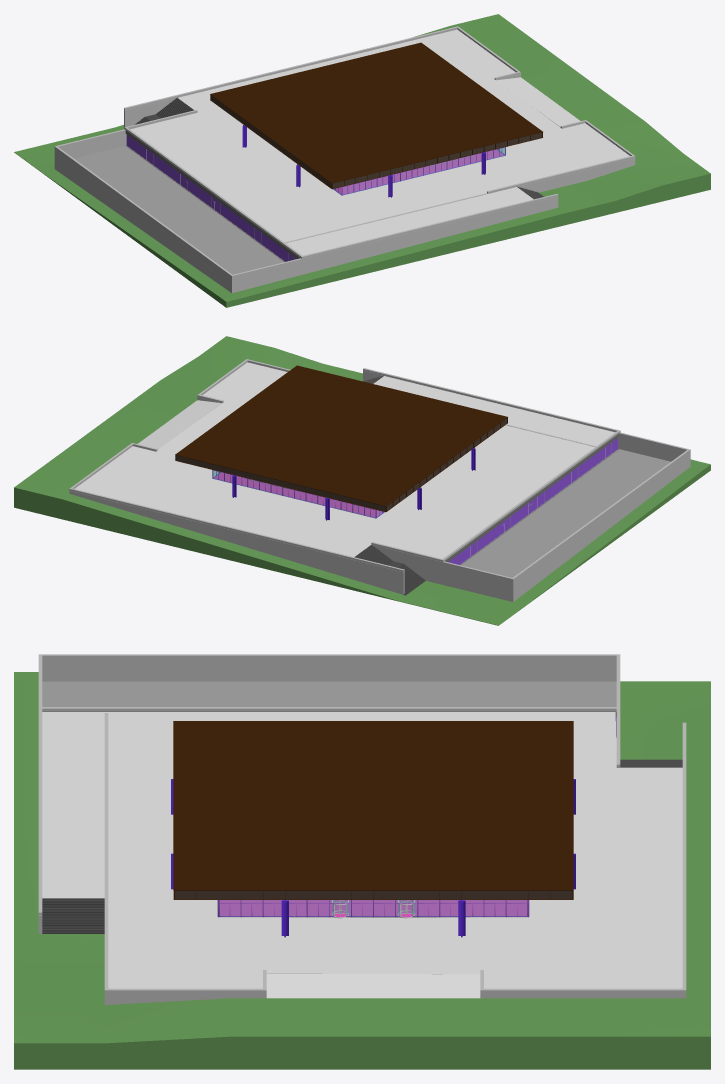
Rendered from 3D BERLIN PAVILLION MAX.fbx.
The picture shows the model from 3 angles, top to bottom: view 1: azimuth 30°, elevation 25°; view 2: azimuth 150°, elevation 25°; view 3: azimuth 270°, elevation 25°; orthographic projection. The views are drawn at different scales.
Parts seen in each view (by area): view 1: FloorOutside, Roof, GroundOutside, WallsOuter, GroundOutsideDown, WindowBackWall, RoofOutsidePanel, StairsOutside, FloorInside, Windows, UndergroundPiller, StairsOutdoor; view 2: FloorOutside, Roof, GroundOutside, WallsOuter, GroundOutsideDown, WindowBackWall, RoofOutsidePanel, StairsOutside, FloorInside, Windows, UndergroundPiller, StairsOutdoor; view 3: FloorOutside, GroundOutside, Roof, WallsOuter, GroundOutsideDown, StairsOutside, FloorInside, RoofOutsidePanel, Windows, StairsOutdoor, Piller, WindowFrame.
Part boxes in pixels (x1,y1,x2,y2): FloorOutside: [130, 29, 629, 255]; Roof: [210, 42, 542, 189]; GroundOutside: [14, 14, 710, 307]; WallsOuter: [54, 26, 635, 292]; GroundOutsideDown: [74, 146, 283, 274]; WindowBackWall: [126, 134, 296, 261]; RoofOutsidePanel: [211, 95, 541, 188]; StairsOutside: [497, 77, 580, 127]; FloorInside: [336, 149, 503, 194]; Windows: [335, 147, 504, 194]; UndergroundPiller: [125, 130, 300, 261]; StairsOutdoor: [134, 97, 543, 199]; FloorOutside: [75, 362, 614, 558]; Roof: [175, 365, 507, 511]; GroundOutside: [14, 336, 710, 625]; WallsOuter: [69, 359, 690, 601]; GroundOutsideDown: [461, 449, 670, 577]; WindowBackWall: [448, 438, 618, 564]; RoofOutsidePanel: [176, 418, 506, 511]; StairsOutside: [138, 400, 221, 449]; FloorInside: [214, 472, 383, 517]; Windows: [213, 471, 382, 517]; UndergroundPiller: [445, 433, 619, 565]; StairsOutdoor: [354, 375, 425, 595]; FloorOutside: [42, 712, 682, 988]; GroundOutside: [14, 672, 710, 1069]; Roof: [173, 721, 573, 899]; WallsOuter: [38, 654, 686, 1004]; GroundOutsideDown: [42, 681, 616, 706]; StairsOutside: [266, 974, 480, 998]; FloorInside: [220, 900, 527, 917]; RoofOutsidePanel: [175, 890, 572, 899]; Windows: [220, 900, 526, 915]; StairsOutdoor: [42, 759, 682, 933]; Piller: [171, 779, 575, 937]; WindowFrame: [219, 903, 527, 916].
Size of what is drawn, in the model's own units: 14889 by 1509 by 11306.
